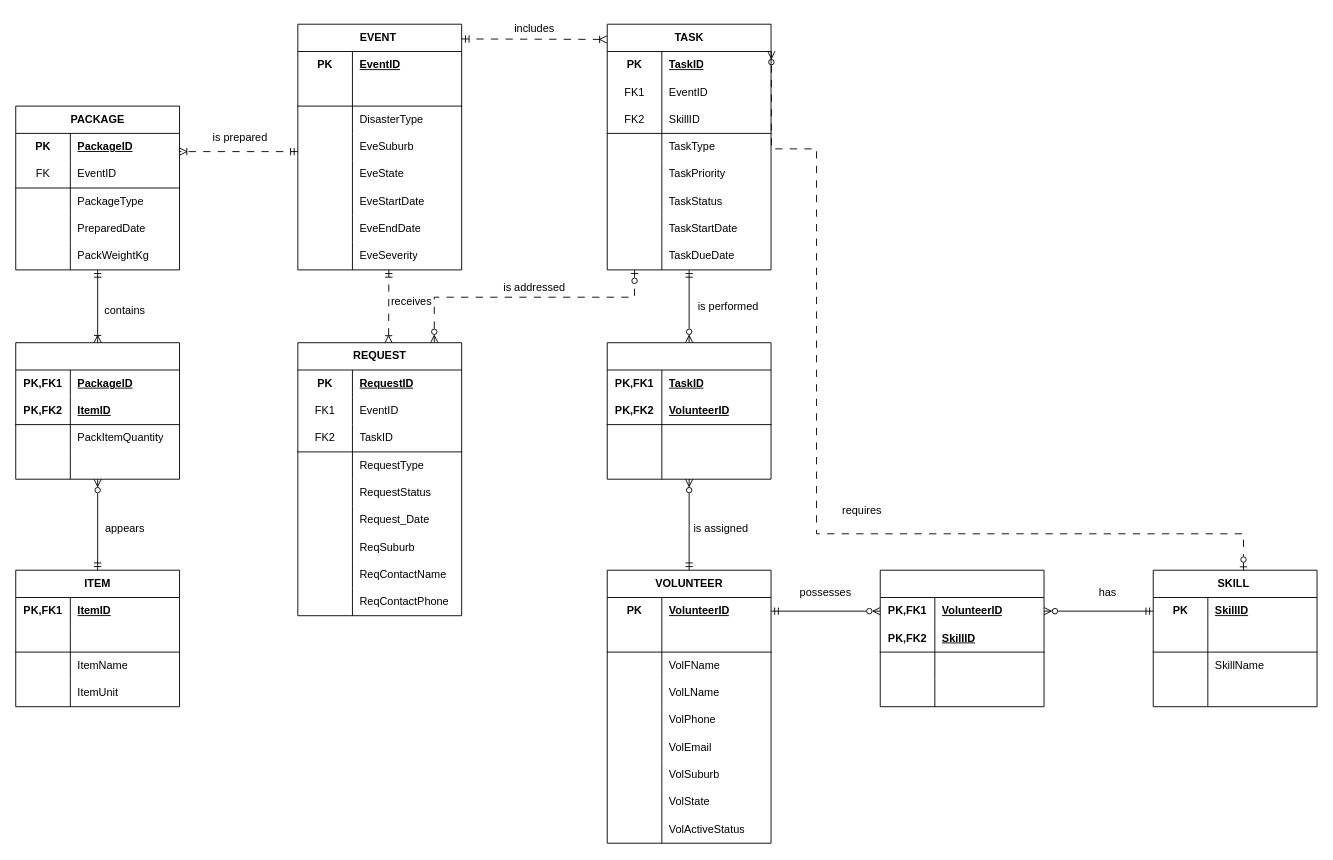
Some shapes in this 1333 by 860 pixel diagram are drawn without their labels. The shapes that lost their labels are listed below. From the top down, each one's box as (x1, y1, x2, y2) in pixels, then its label:
(15, 342, 180, 479): PACKAGE_ITEM
(606, 342, 771, 479): TASK_VOLUNTEER
(879, 569, 1044, 707): VOLUNTEER_SKILL
